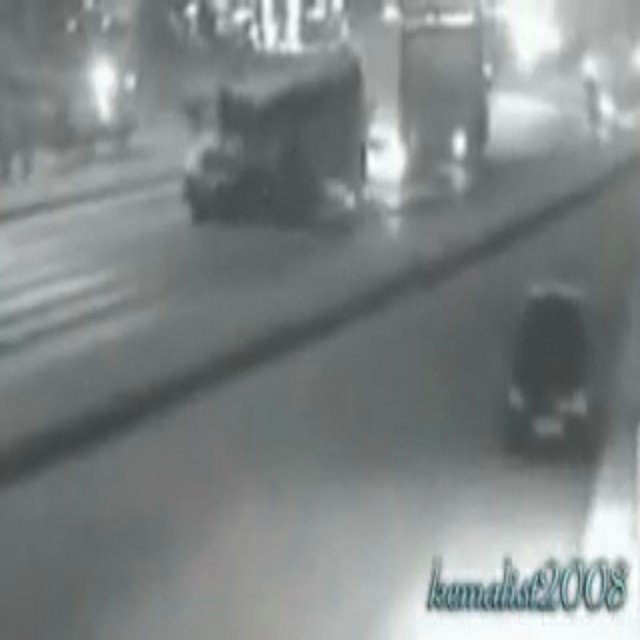acc: (152, 70, 382, 223)
